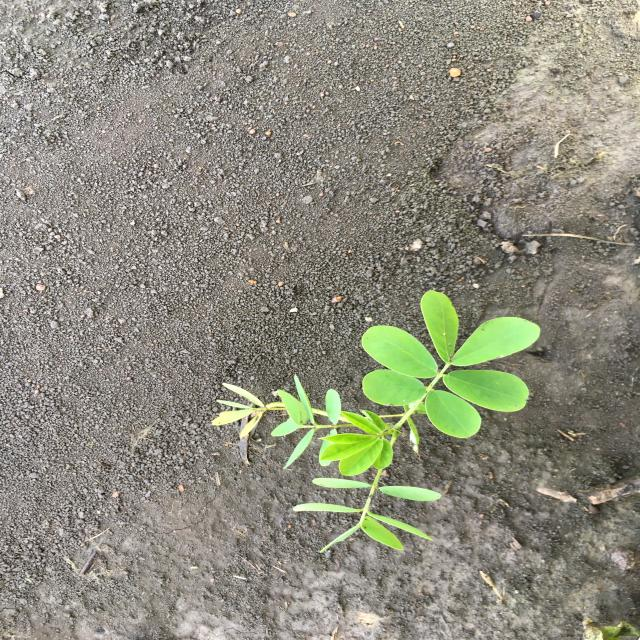Sicklepod: (206, 290, 543, 558)
